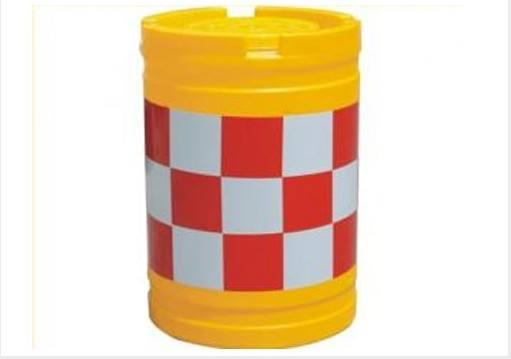sign: (133, 3, 367, 350)
